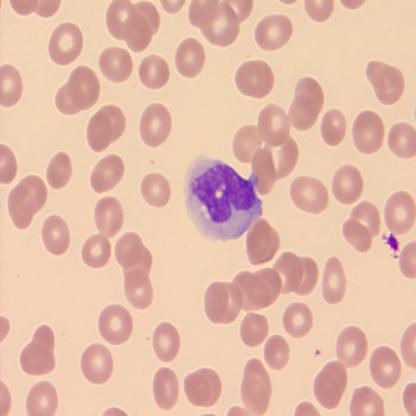Monocyte: (181, 151, 264, 243)
